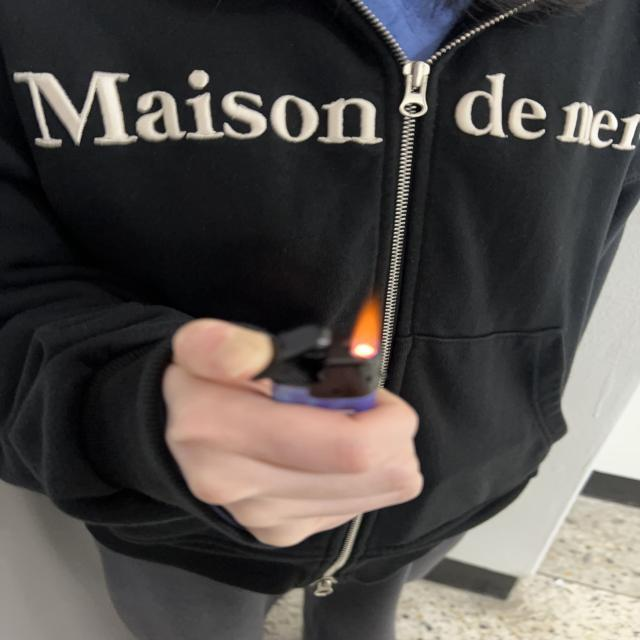fire: (349, 291, 382, 361)
